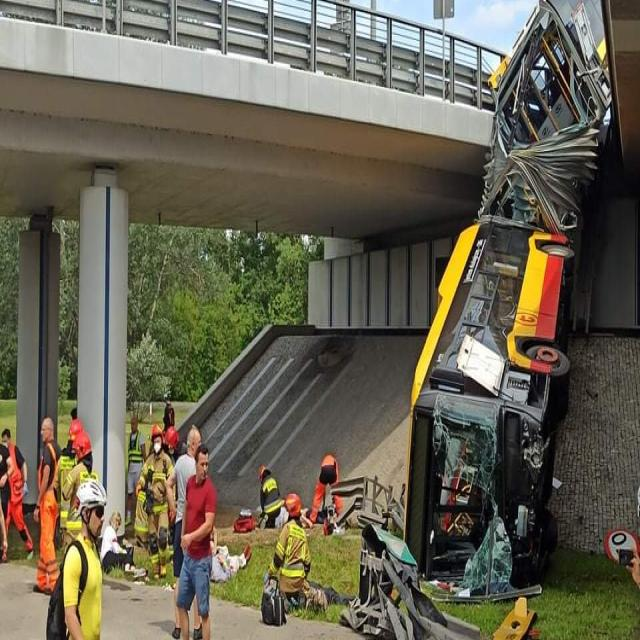Accident: (339, 0, 623, 640)
